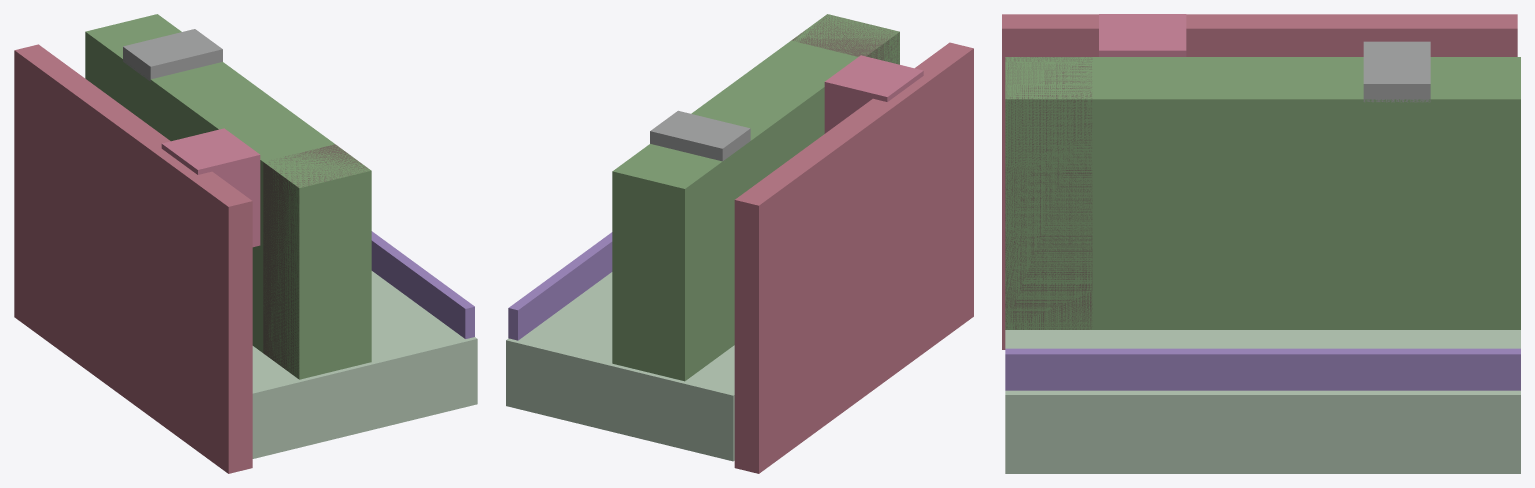
The model's file is 199508_pred.glb.
3 views of the same model, side by side, from view 1: azimuth 30°, elevation 25°; view 2: azimuth 150°, elevation 25°; view 3: azimuth 270°, elevation 25° (orthographic). The views are drawn at different scales.
Visible parts, largest first — view 1: world; view 2: world; view 3: world.
Boxes of the visible parts, x1,y1,x2,y2 form: world: [14, 14, 477, 473]; world: [506, 14, 973, 473]; world: [1002, 14, 1520, 473].
Size of the model in its own units: 5.2 by 5.55 by 7.75.
